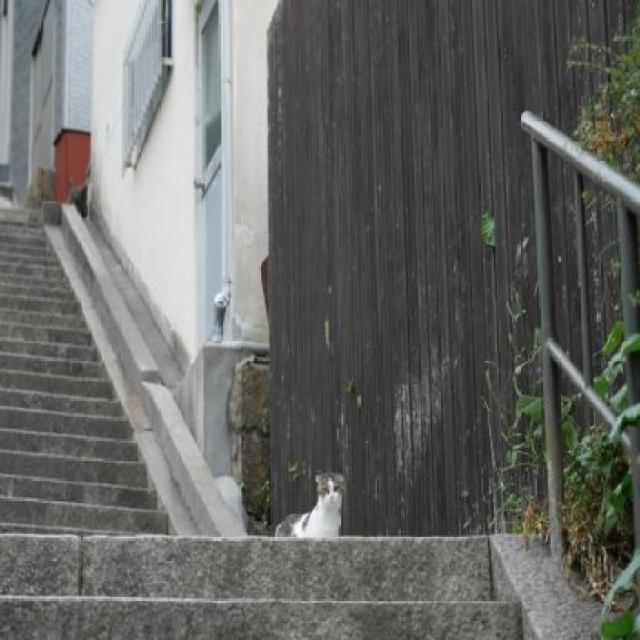stair: (0, 207, 522, 638)
